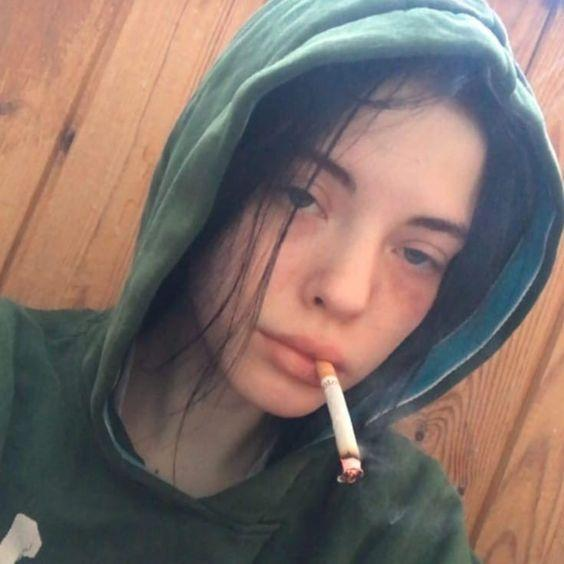cigarette: (315, 361, 362, 485)
